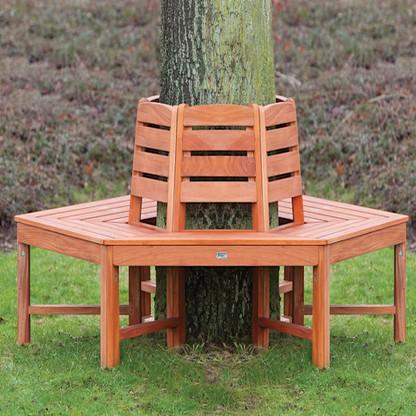obstacle: (13, 86, 412, 390)
